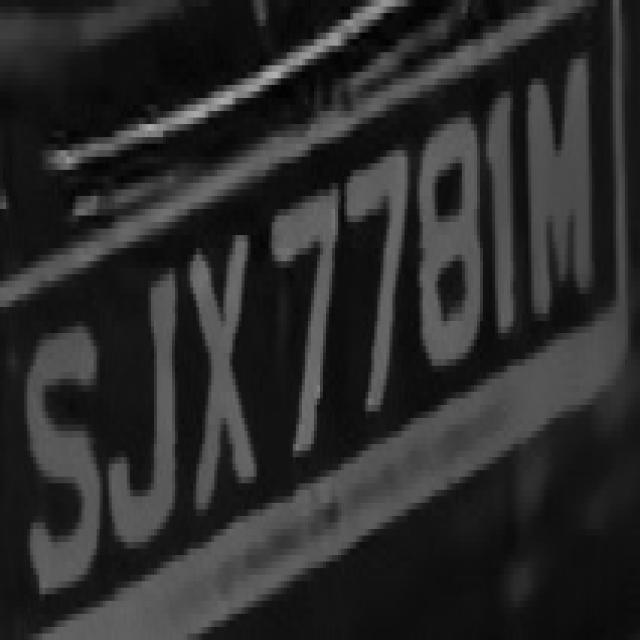1: (489, 72, 525, 366)
7: (326, 137, 414, 444), (263, 163, 347, 451)
8: (402, 98, 486, 379)
J: (100, 255, 187, 555)
M: (519, 39, 604, 346)
S: (12, 320, 112, 607)
X: (166, 215, 266, 522)
